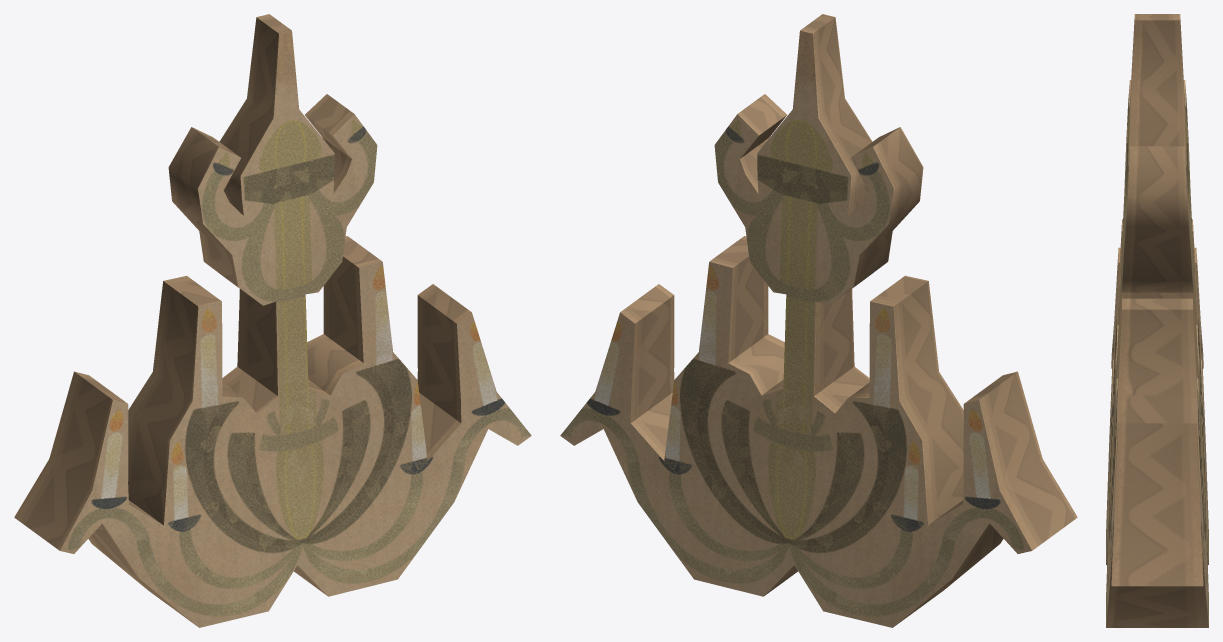
File: SM_Lustre.fbx
3 renders of one model, left to right at view 1: azimuth 30°, elevation 25°; view 2: azimuth 150°, elevation 25°; view 3: azimuth 270°, elevation 25°, orthographic.
Parts seen in each view (by area): view 1: Plane002; view 2: Plane002; view 3: Plane002.
Part boxes in pixels (<box>): Plane002: <box>14,14,531,627</box>; Plane002: <box>560,14,1077,627</box>; Plane002: <box>1106,14,1208,627</box>.
Size of the model in its own units: 662 by 752 by 124.
